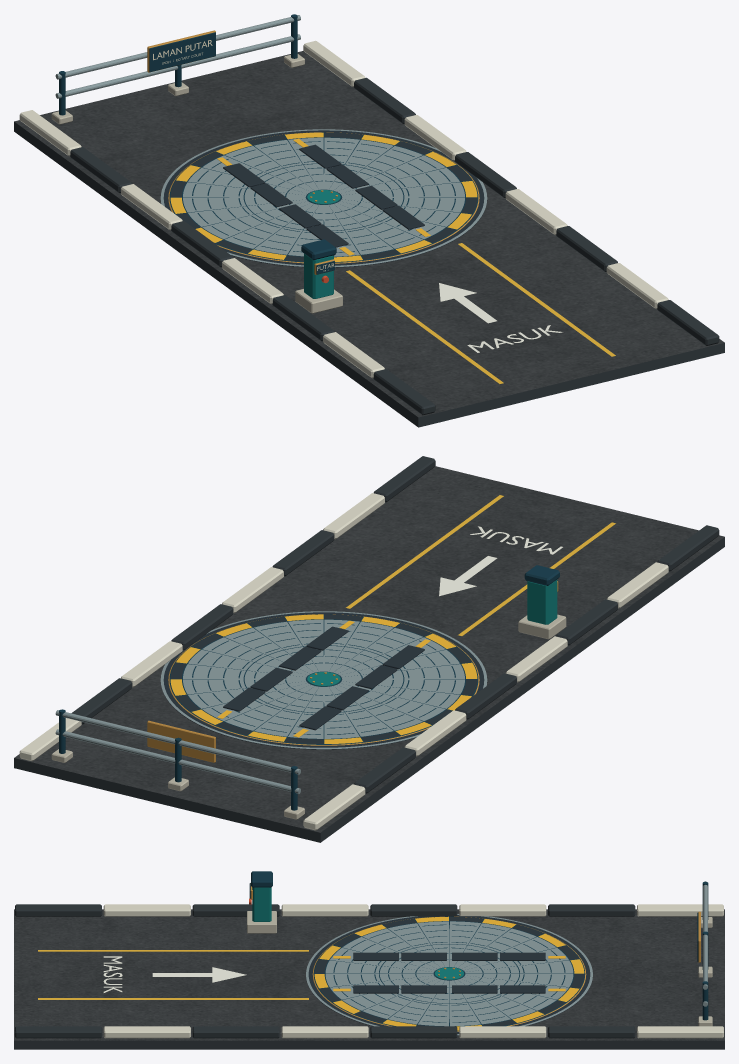
The picture shows the model from 3 angles, top to bottom: view 1: azimuth 30°, elevation 25°; view 2: azimuth 150°, elevation 25°; view 3: azimuth 270°, elevation 25°; orthographic projection. The views are drawn at different scales.
Visible parts, largest first — view 1: Road Deck, Rotary Cassette, Apron Edge, End Rail and Drum, Wheel Runners, Limit Control Pedestal, Embossed Traction Ribs, Road Markings, Apron Legends; view 2: Road Deck, Rotary Cassette, Apron Edge, End Rail and Drum, Wheel Runners, Limit Control Pedestal, Embossed Traction Ribs, Road Markings, Apron Legends; view 3: Road Deck, Rotary Cassette, Apron Edge, Wheel Runners, Embossed Traction Ribs, Limit Control Pedestal, End Rail and Drum, Road Markings, Apron Legends.
Part boxes in pixels (x1,y1,x2,y2): Road Deck: (14,51,724,427); Rotary Cassette: (160,129,487,267); Apron Edge: (19,40,719,415); End Rail and Drum: (51,14,304,124); Wheel Runners: (223,144,424,247); Limit Control Pedestal: (295,239,342,313); Embossed Traction Ribs: (192,141,455,252); Road Markings: (346,243,615,383); Apron Legends: (439,283,562,352); Road Deck: (14,466,724,842); Rotary Cassette: (160,611,487,749); Apron Edge: (19,456,719,830); End Rail and Drum: (51,709,304,819); Wheel Runners: (223,626,424,730); Limit Control Pedestal: (518,565,566,639); Embossed Traction Ribs: (192,623,455,734); Road Markings: (346,495,615,635); Apron Legends: (439,526,562,596); Road Deck: (14,909,724,1049); Rotary Cassette: (306,914,592,1035); Apron Edge: (15,904,723,1038); Wheel Runners: (353,952,545,993); Embossed Traction Ribs: (333,924,565,1022); Limit Control Pedestal: (247,871,276,933); End Rail and Drum: (697,881,712,1026); Road Markings: (38,950,308,999); Apron Legends: (103,956,246,992).
Size of the model in its own units: 7 by 1.49 by 16.
Materials: 15 (1 with a texture image).
